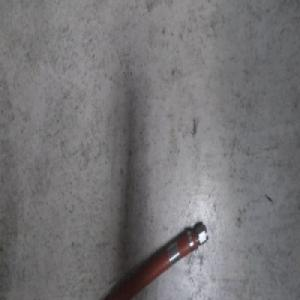Hose: (78, 218, 210, 300)
